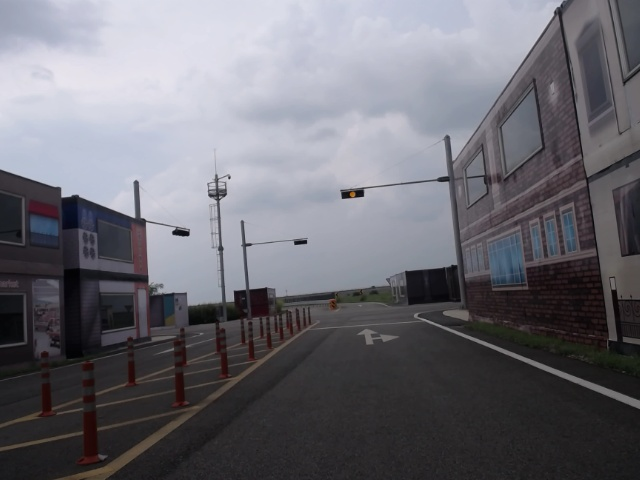orange_3: (341, 189, 365, 199)
